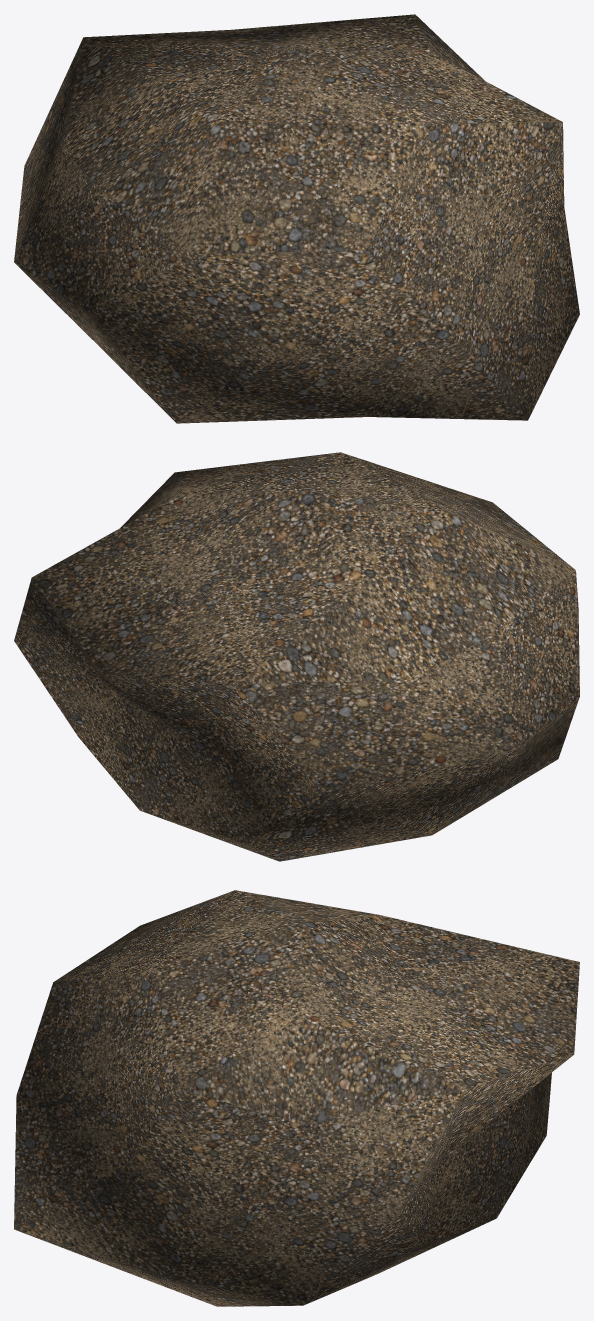
The model's file is level_hc_native_113_0.glb.
3 views of the same model, one above another, from view 1: azimuth 30°, elevation 25°; view 2: azimuth 150°, elevation 25°; view 3: azimuth 270°, elevation 25° (orthographic). The views are drawn at different scales.
Visible parts, largest first — view 1: level_hc_native_113_0; view 2: level_hc_native_113_0; view 3: level_hc_native_113_0.
Boxes of the visible parts, <box> form: level_hc_native_113_0: <box>14,14,579,423</box>; level_hc_native_113_0: <box>14,452,579,861</box>; level_hc_native_113_0: <box>14,890,579,1306</box>.
Size of the model in its own units: 1.99 by 1.4 by 2.02.
1 material, 1 textured.
